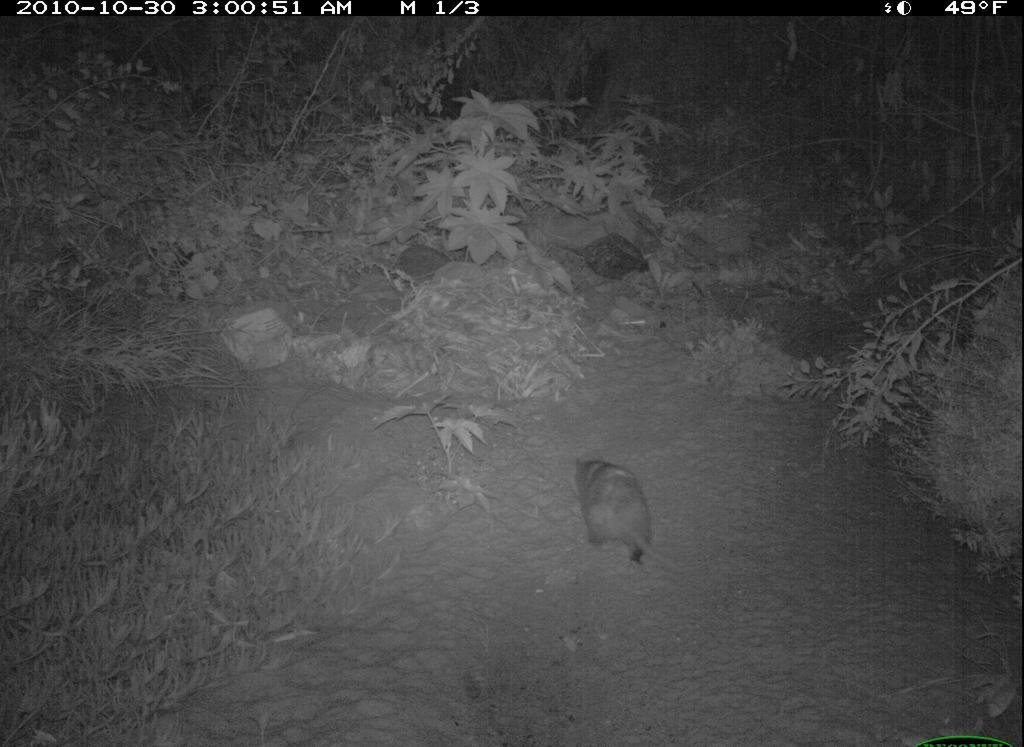opossum: (573, 455, 687, 579)
